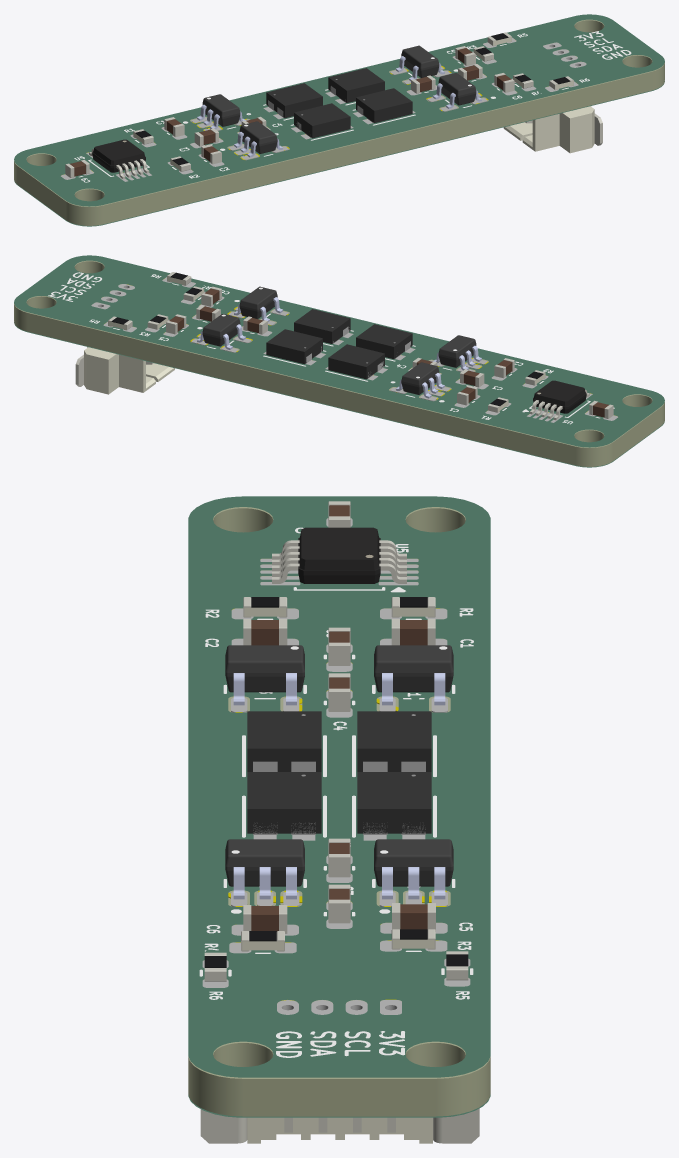
The model's file is board.glb.
3 views of the same model, one above another, from view 1: azimuth 30°, elevation 25°; view 2: azimuth 150°, elevation 25°; view 3: azimuth 270°, elevation 25° (orthographic). The views are drawn at different scales.
Parts seen in each view (by area): view 1: =>[0:1:1:19], =>[0:1:1:21], =>[0:1:1:3] (×4), =>[0:1:1:9] (×4), =>[0:1:1:13], =>[0:1:1:15], =>[0:1:1:11], =>[0:1:1:17], =>[0:1:1:5] (×3), =>[0:1:1:20]; view 2: =>[0:1:1:19], =>[0:1:1:21], =>[0:1:1:3] (×4), =>[0:1:1:9] (×4), =>[0:1:1:13], =>[0:1:1:15], =>[0:1:1:11], =>[0:1:1:17], =>[0:1:1:5] (×3), =>[0:1:1:20]; view 3: =>[0:1:1:19], =>[0:1:1:3] (×4), =>[0:1:1:21], =>[0:1:1:9] (×4), =>[0:1:1:15], =>[0:1:1:13], =>[0:1:1:11], =>[0:1:1:17], =>[0:1:1:5] (×4).
Part boxes in pixels (<box>): =>[0:1:1:19]: <box>14,14,664,206</box>; =>[0:1:1:21]: <box>14,19,664,225</box>; =>[0:1:1:3] (×4): <box>266,68,412,138</box>; =>[0:1:1:9] (×4): <box>197,45,481,157</box>; =>[0:1:1:13]: <box>503,106,602,153</box>; =>[0:1:1:15]: <box>61,37,586,181</box>; =>[0:1:1:11]: <box>89,139,149,179</box>; =>[0:1:1:17]: <box>74,31,631,182</box>; =>[0:1:1:5] (×3): <box>65,75,435,177</box>; =>[0:1:1:20]: <box>14,81,664,226</box>; =>[0:1:1:19]: <box>14,255,664,447</box>; =>[0:1:1:21]: <box>14,260,664,466</box>; =>[0:1:1:3] (×4): <box>266,309,412,379</box>; =>[0:1:1:9] (×4): <box>197,286,481,398</box>; =>[0:1:1:13]: <box>75,347,174,394</box>; =>[0:1:1:15]: <box>91,277,617,422</box>; =>[0:1:1:11]: <box>529,380,589,420</box>; =>[0:1:1:17]: <box>48,272,614,424</box>; =>[0:1:1:5] (×3): <box>243,316,613,418</box>; =>[0:1:1:20]: <box>14,322,664,467</box>; =>[0:1:1:19]: <box>188,496,490,1077</box>; =>[0:1:1:3] (×4): <box>247,711,431,834</box>; =>[0:1:1:21]: <box>188,507,490,1116</box>; =>[0:1:1:9] (×4): <box>225,645,453,899</box>; =>[0:1:1:15]: <box>202,518,470,1014</box>; =>[0:1:1:13]: <box>200,1108,479,1143</box>; =>[0:1:1:11]: <box>272,527,406,583</box>; =>[0:1:1:17]: <box>199,527,473,1057</box>; =>[0:1:1:5] (×4): <box>243,619,435,933</box>.
Bounding box in the file's own units: 0.05 × 0.00683 × 0.011.
